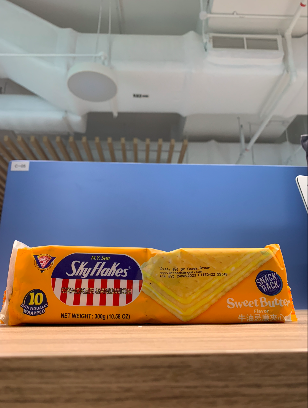Crackers_300-399g: (14, 248, 294, 322)
